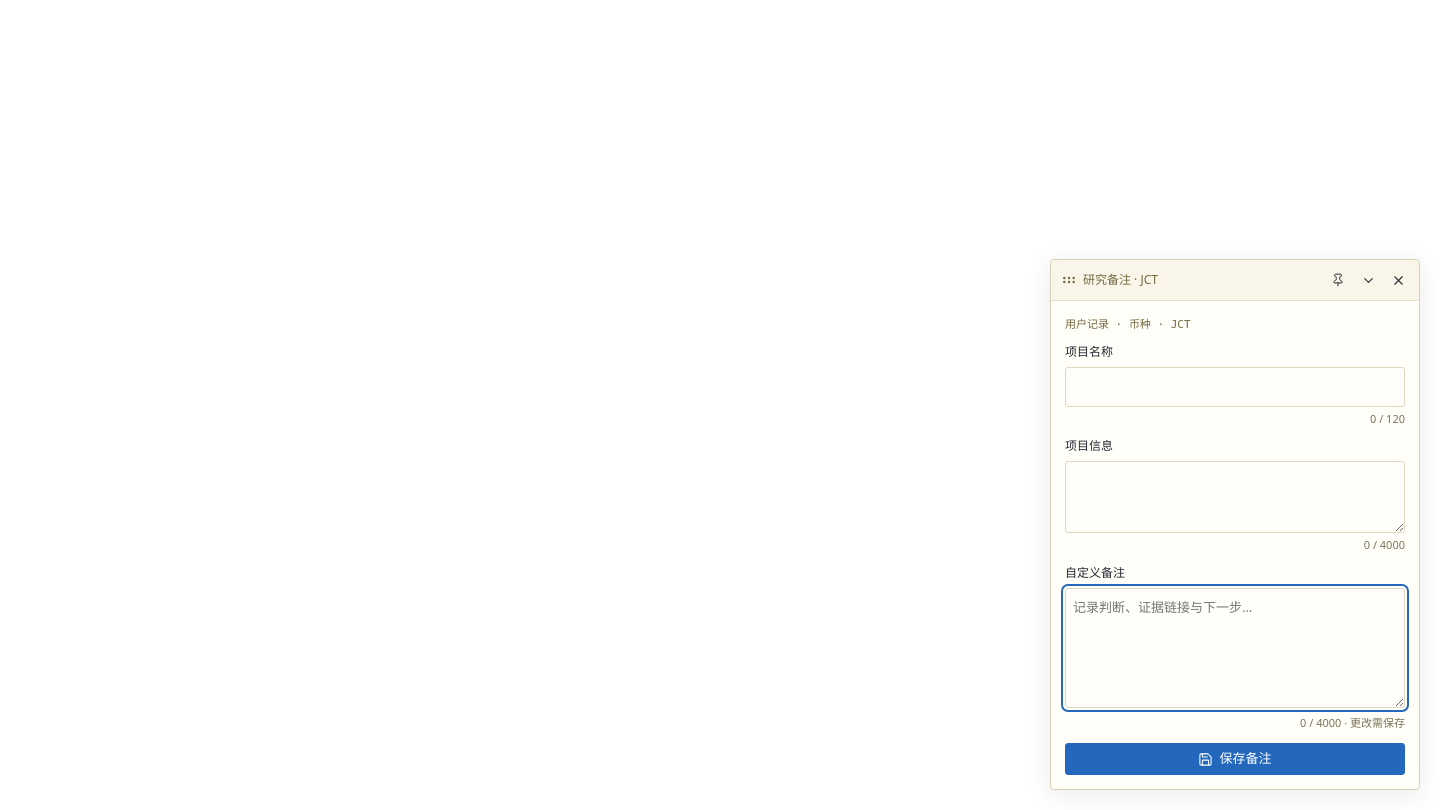
it: PR07 failed save and hide retains every draft and never acknowledges success
Type "Draft name" into the field labelled "项目名称" at x=1235, y=387, box x1=1065 y1=367 x2=1405 y2=406
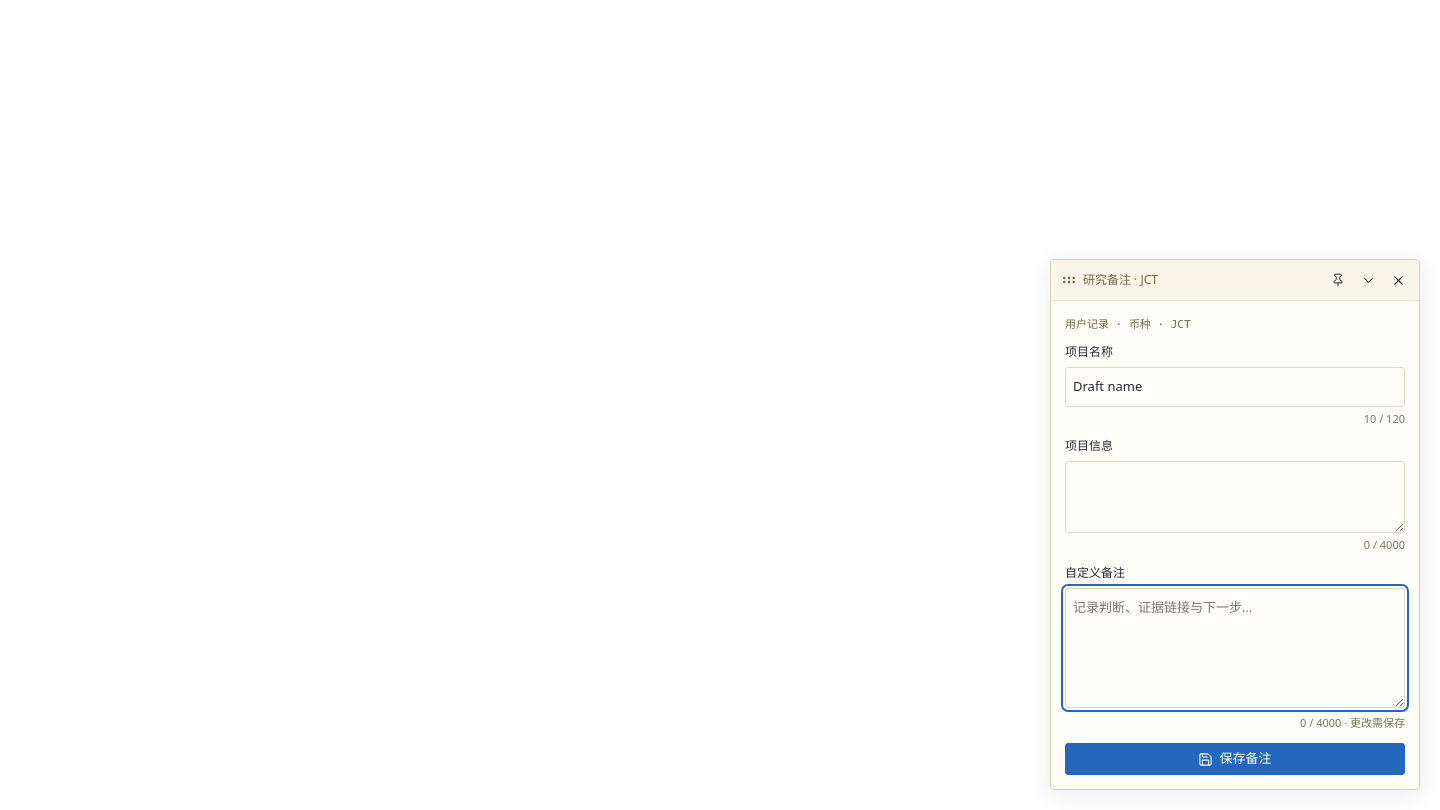
Type "Draft context" into the text box labelled "项目信息" at x=1235, y=497, box x1=1065 y1=461 x2=1405 y2=533
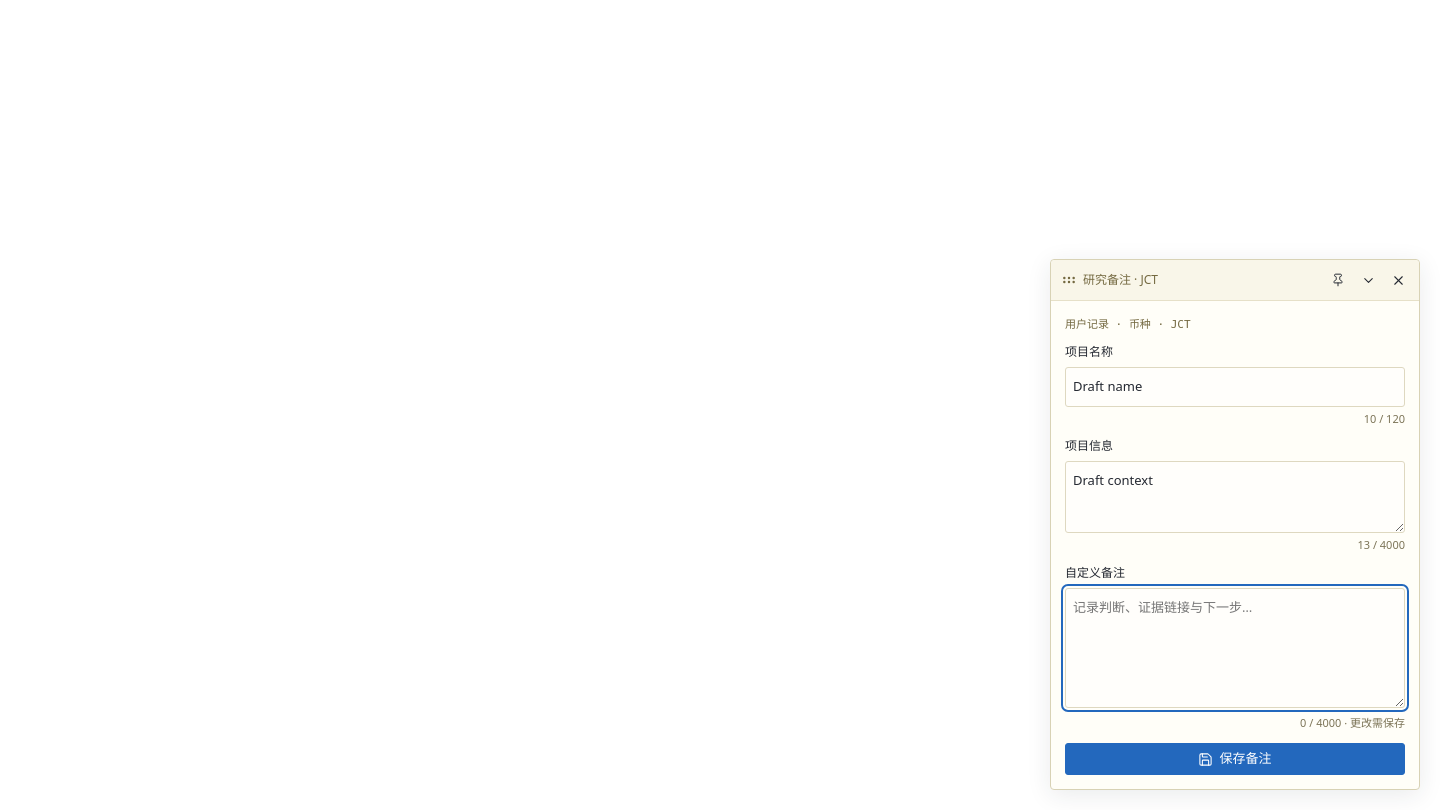
Type "Draft note" into the text box labelled "自定义备注" at x=1235, y=648, box x1=1065 y1=588 x2=1405 y2=708
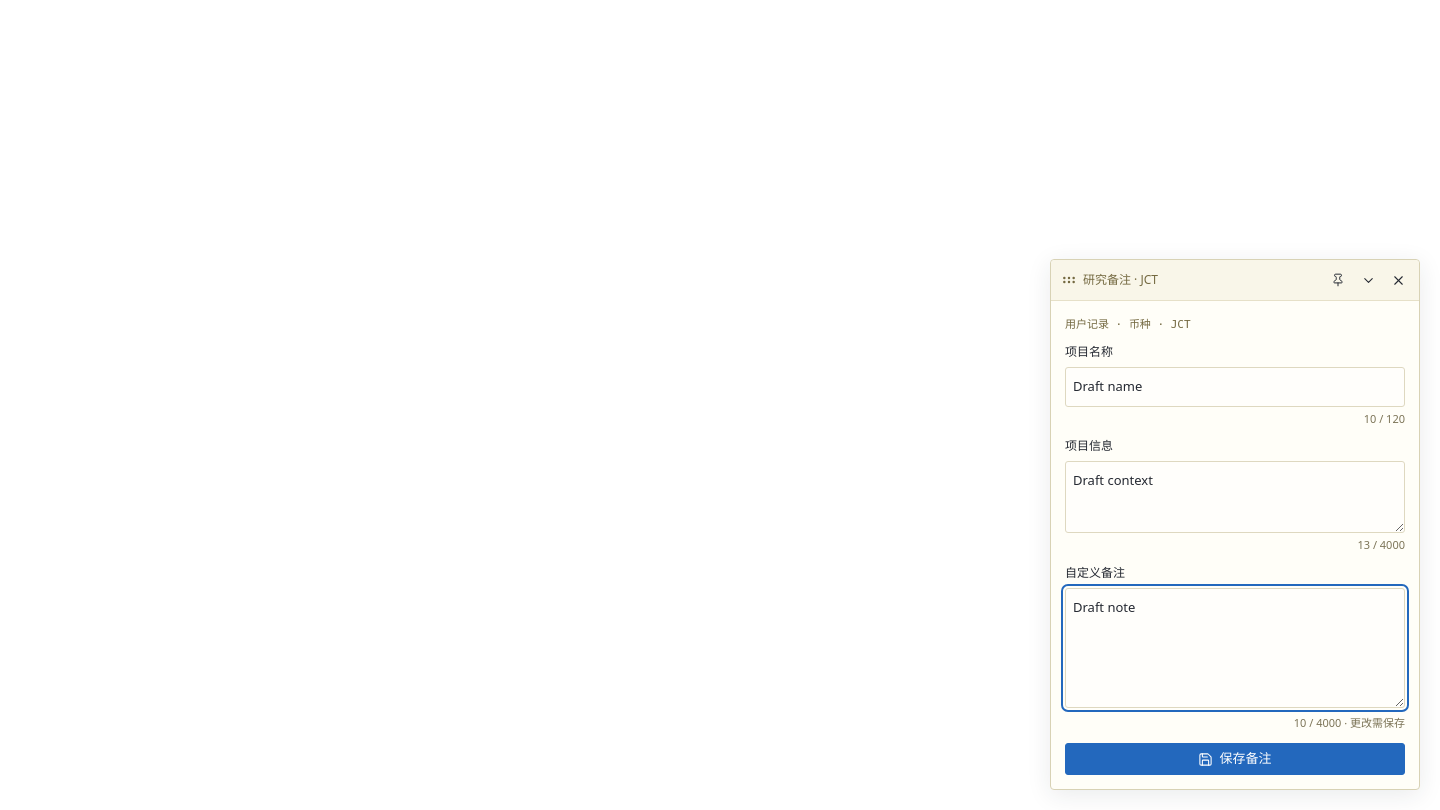
Click the button named "保存并隐藏备注" at x=1398, y=280, box x1=1383 y1=265 x2=1413 y2=295
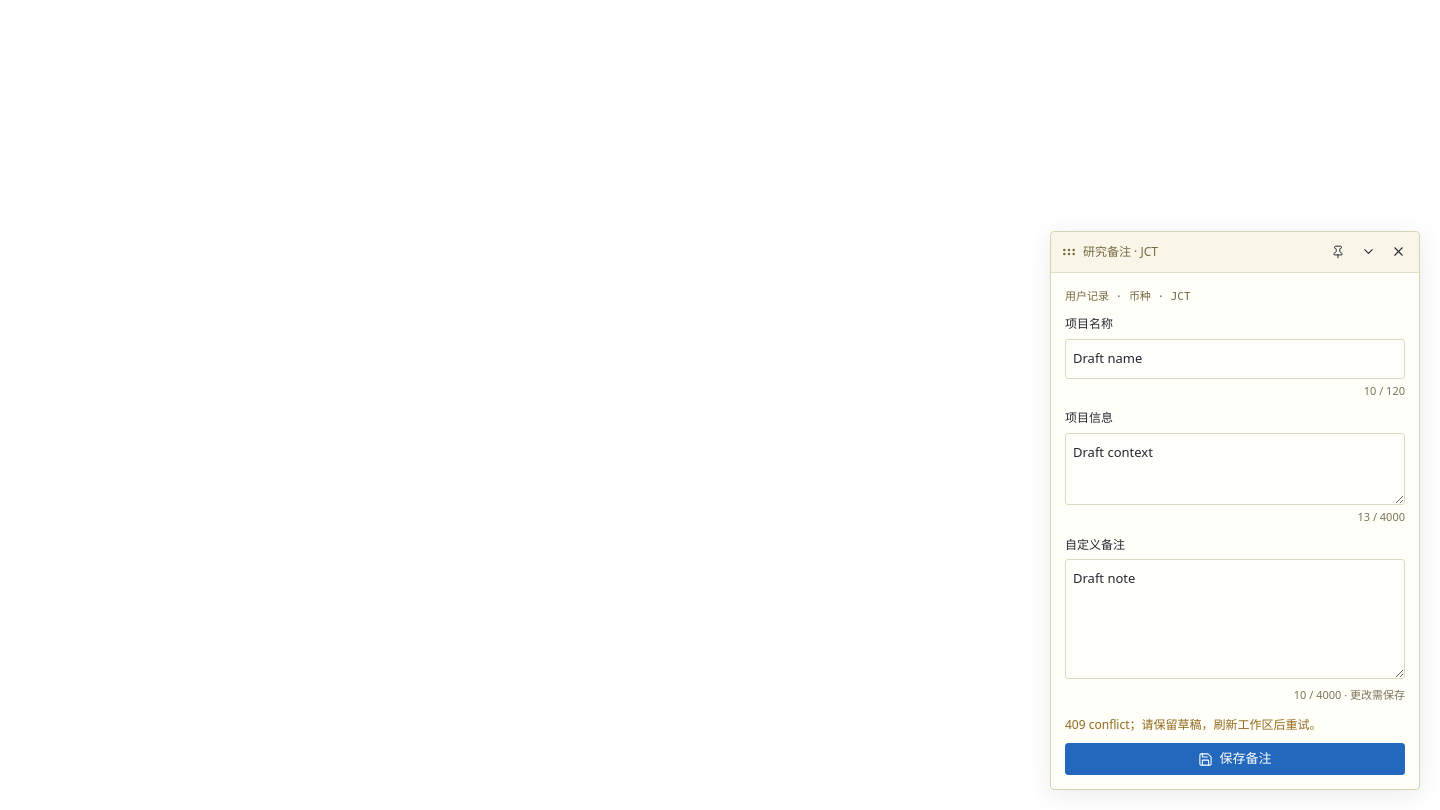
Now the message "409 conflict；请保留草稿，刷新工作区后重试。" is shown, box x1=1065 y1=716 x2=1322 y2=733
